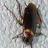cockroach: (22, 2, 37, 42)
